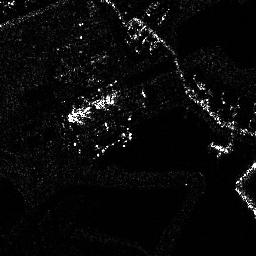ship: (209, 140, 228, 154)
